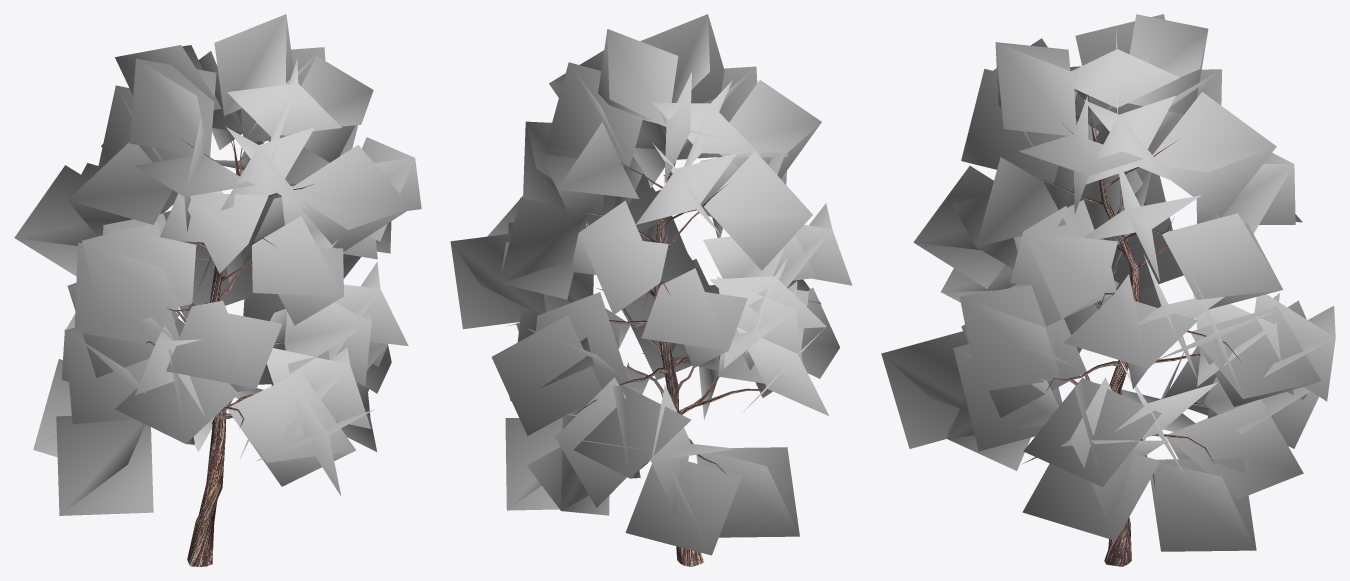
File: obj_to_blender_to_fbx.fbx
3 renders of one model, left to right at view 1: azimuth 30°, elevation 25°; view 2: azimuth 150°, elevation 25°; view 3: azimuth 270°, elevation 25°, orthographic. The views are drawn at different scales.
Visible parts, largest first — view 1: maple branch; view 2: maple branch; view 3: maple branch.
Part boxes in pixels (x1,y1,x2,y2): maple branch: [14, 14, 421, 566]; maple branch: [450, 14, 852, 566]; maple branch: [881, 14, 1335, 566].
Size of the model in its own units: 6344 by 9368 by 6936.
